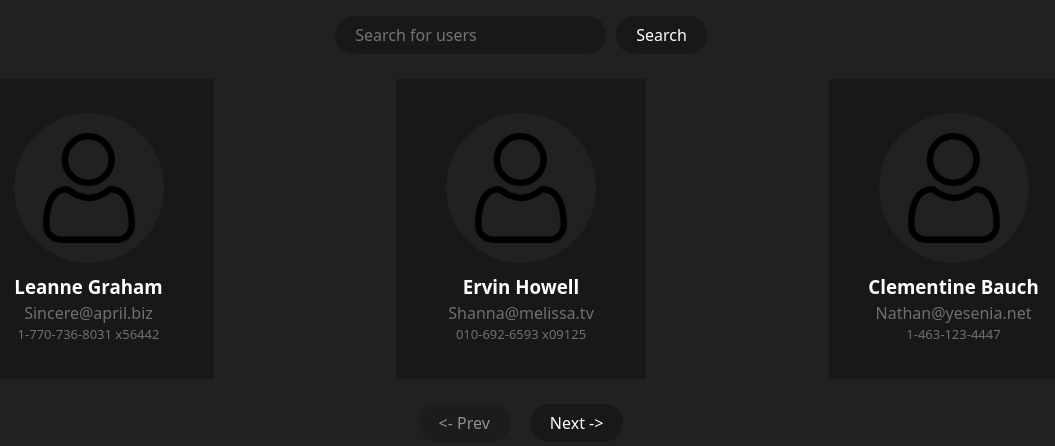
it: Users Page › Search Bar logic › Display Reset filter button when Search bar is not empty
In the field with placeholder "Search for users": (471, 35) [335,16,606,54], type "Alex"
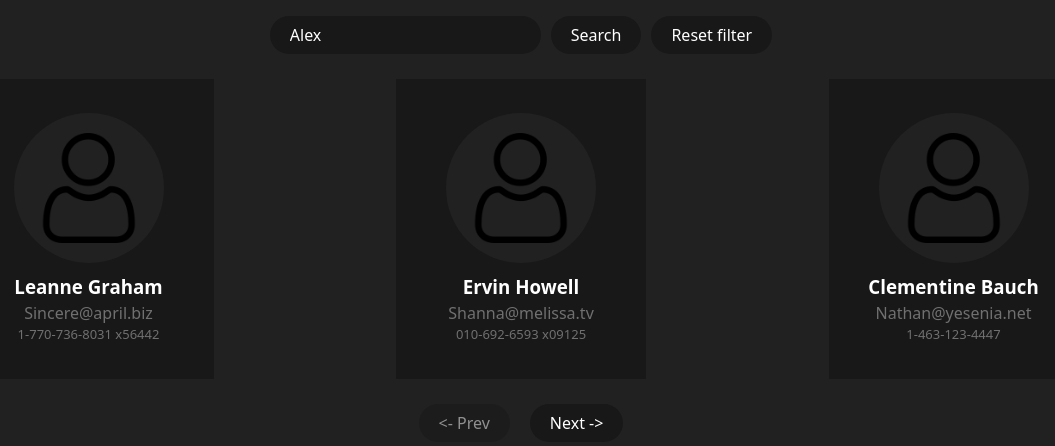
Expected: the button "Reset filter" is shown, [651,16,772,54]
